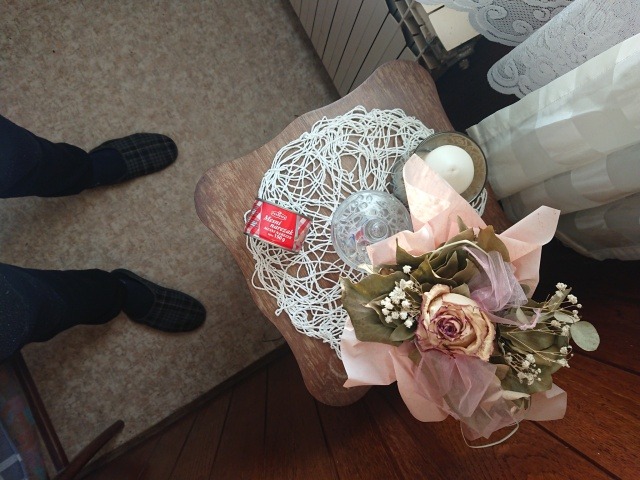Podravka Luncheon Meat 150g: (241, 195, 316, 256)
